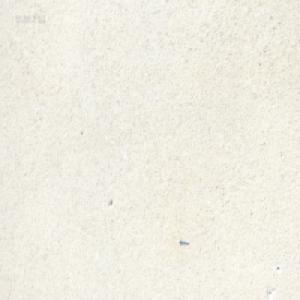Nail: (178, 237, 189, 245)
